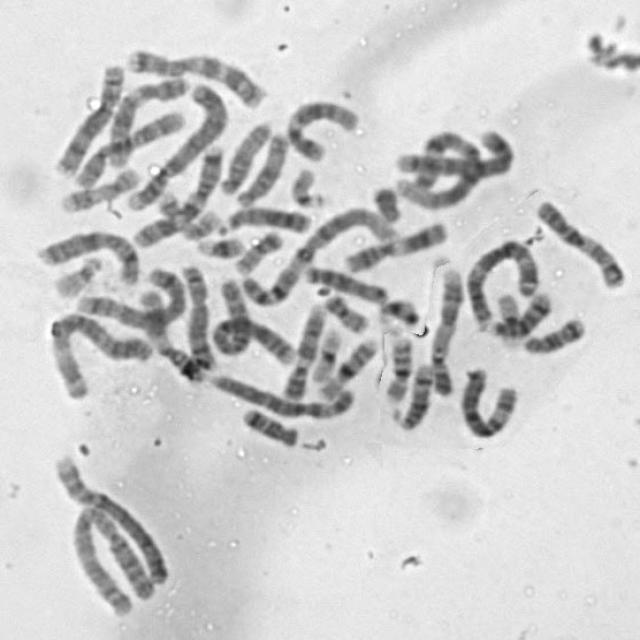A1: (234, 200, 404, 308), (390, 123, 486, 212)
A2: (61, 486, 161, 623), (208, 272, 298, 365)
A3: (42, 306, 158, 402), (461, 234, 544, 330)
B4: (43, 451, 177, 581), (121, 75, 229, 214)
B5: (392, 123, 520, 187), (74, 261, 188, 330)
C10: (67, 105, 186, 189), (530, 192, 630, 291)
C11: (133, 285, 210, 383), (338, 215, 452, 274)
C12: (102, 69, 190, 169), (281, 91, 364, 162)
C6: (208, 368, 359, 421), (457, 361, 523, 440)
C7: (126, 138, 226, 249), (122, 43, 271, 110)
C8: (48, 58, 128, 178), (175, 256, 215, 376)
C9: (425, 263, 466, 398), (278, 297, 330, 402)
D13: (297, 259, 390, 306), (215, 200, 313, 237)
D14: (482, 286, 554, 341), (388, 357, 436, 432)
D15: (213, 116, 274, 198), (230, 125, 290, 208)
E16: (312, 331, 381, 400), (380, 331, 415, 404)
E17: (54, 162, 142, 214), (153, 187, 223, 240)
E18: (236, 401, 303, 448), (519, 311, 588, 356)
F19: (308, 322, 347, 385), (490, 288, 524, 348)
F20: (228, 225, 285, 276), (319, 288, 372, 336)
G21: (192, 230, 246, 260), (375, 295, 417, 326)
G22: (47, 250, 106, 299), (286, 162, 330, 210)
X: (32, 224, 143, 287)
Y: (367, 180, 404, 223)
